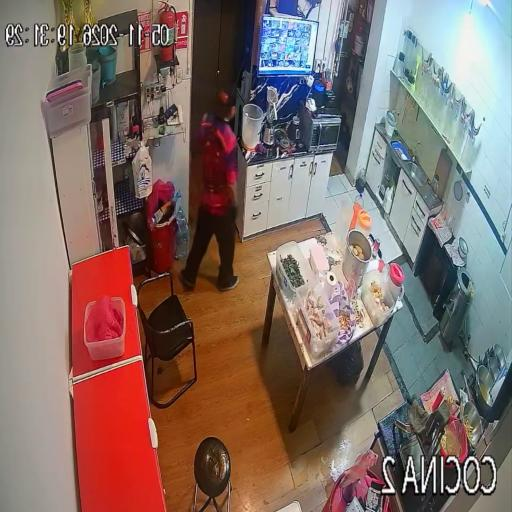Balde: (241, 103, 264, 150)
Envase Ketchup: (432, 387, 446, 411)
Envase Llajua: (446, 395, 453, 405)
Jarra1: (387, 263, 404, 299)
Jarra2: (355, 209, 371, 236)
Jarra3: (333, 198, 354, 247)
JarraLicuadora: (431, 174, 439, 195)
Microondas: (299, 104, 341, 152)
Persona1: (181, 91, 239, 291)
Taper: (277, 241, 313, 302)
Taper2: (295, 283, 339, 358)
Taper3: (362, 270, 396, 326)
Taper4: (84, 301, 126, 360), (110, 297, 126, 320)
olla1: (343, 229, 371, 287)
